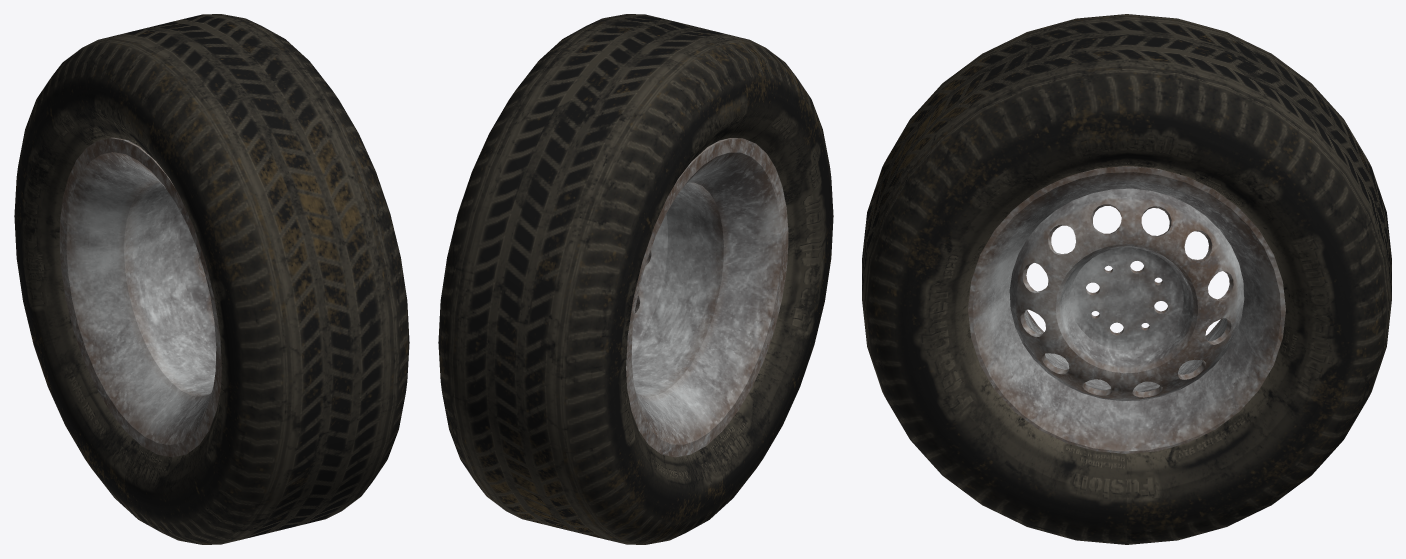
The picture shows the model from 3 angles, left to right: view 1: azimuth 30°, elevation 25°; view 2: azimuth 150°, elevation 25°; view 3: azimuth 270°, elevation 25°; orthographic projection.
Visible parts, largest first — view 1: Wheel; view 2: Wheel; view 3: Wheel.
Part boxes in pixels (x1,y1,x2,y2): Wheel: (14, 14, 409, 544); Wheel: (438, 14, 833, 544); Wheel: (862, 14, 1391, 544).
Bounding box in the file's own units: 0.2528 × 0.6576 × 0.6576.
1 material, 1 textured.
